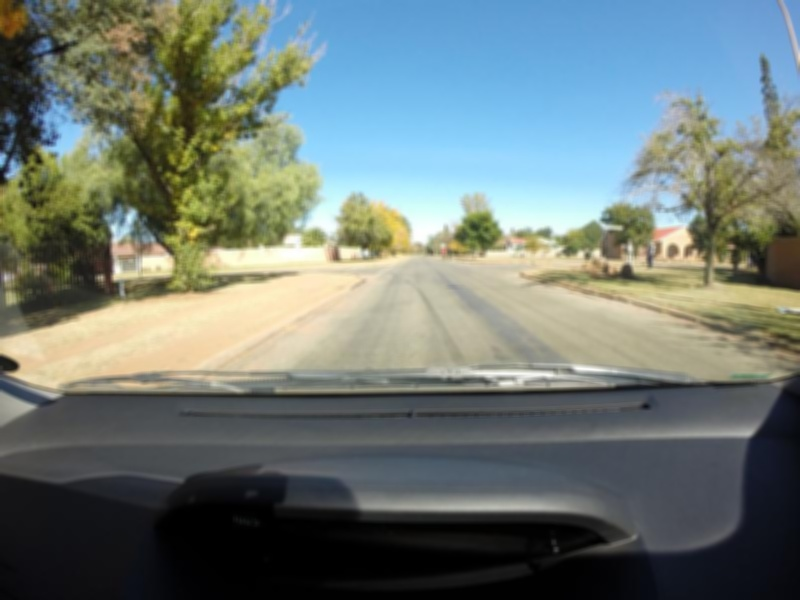pothole: (447, 285, 468, 289)
